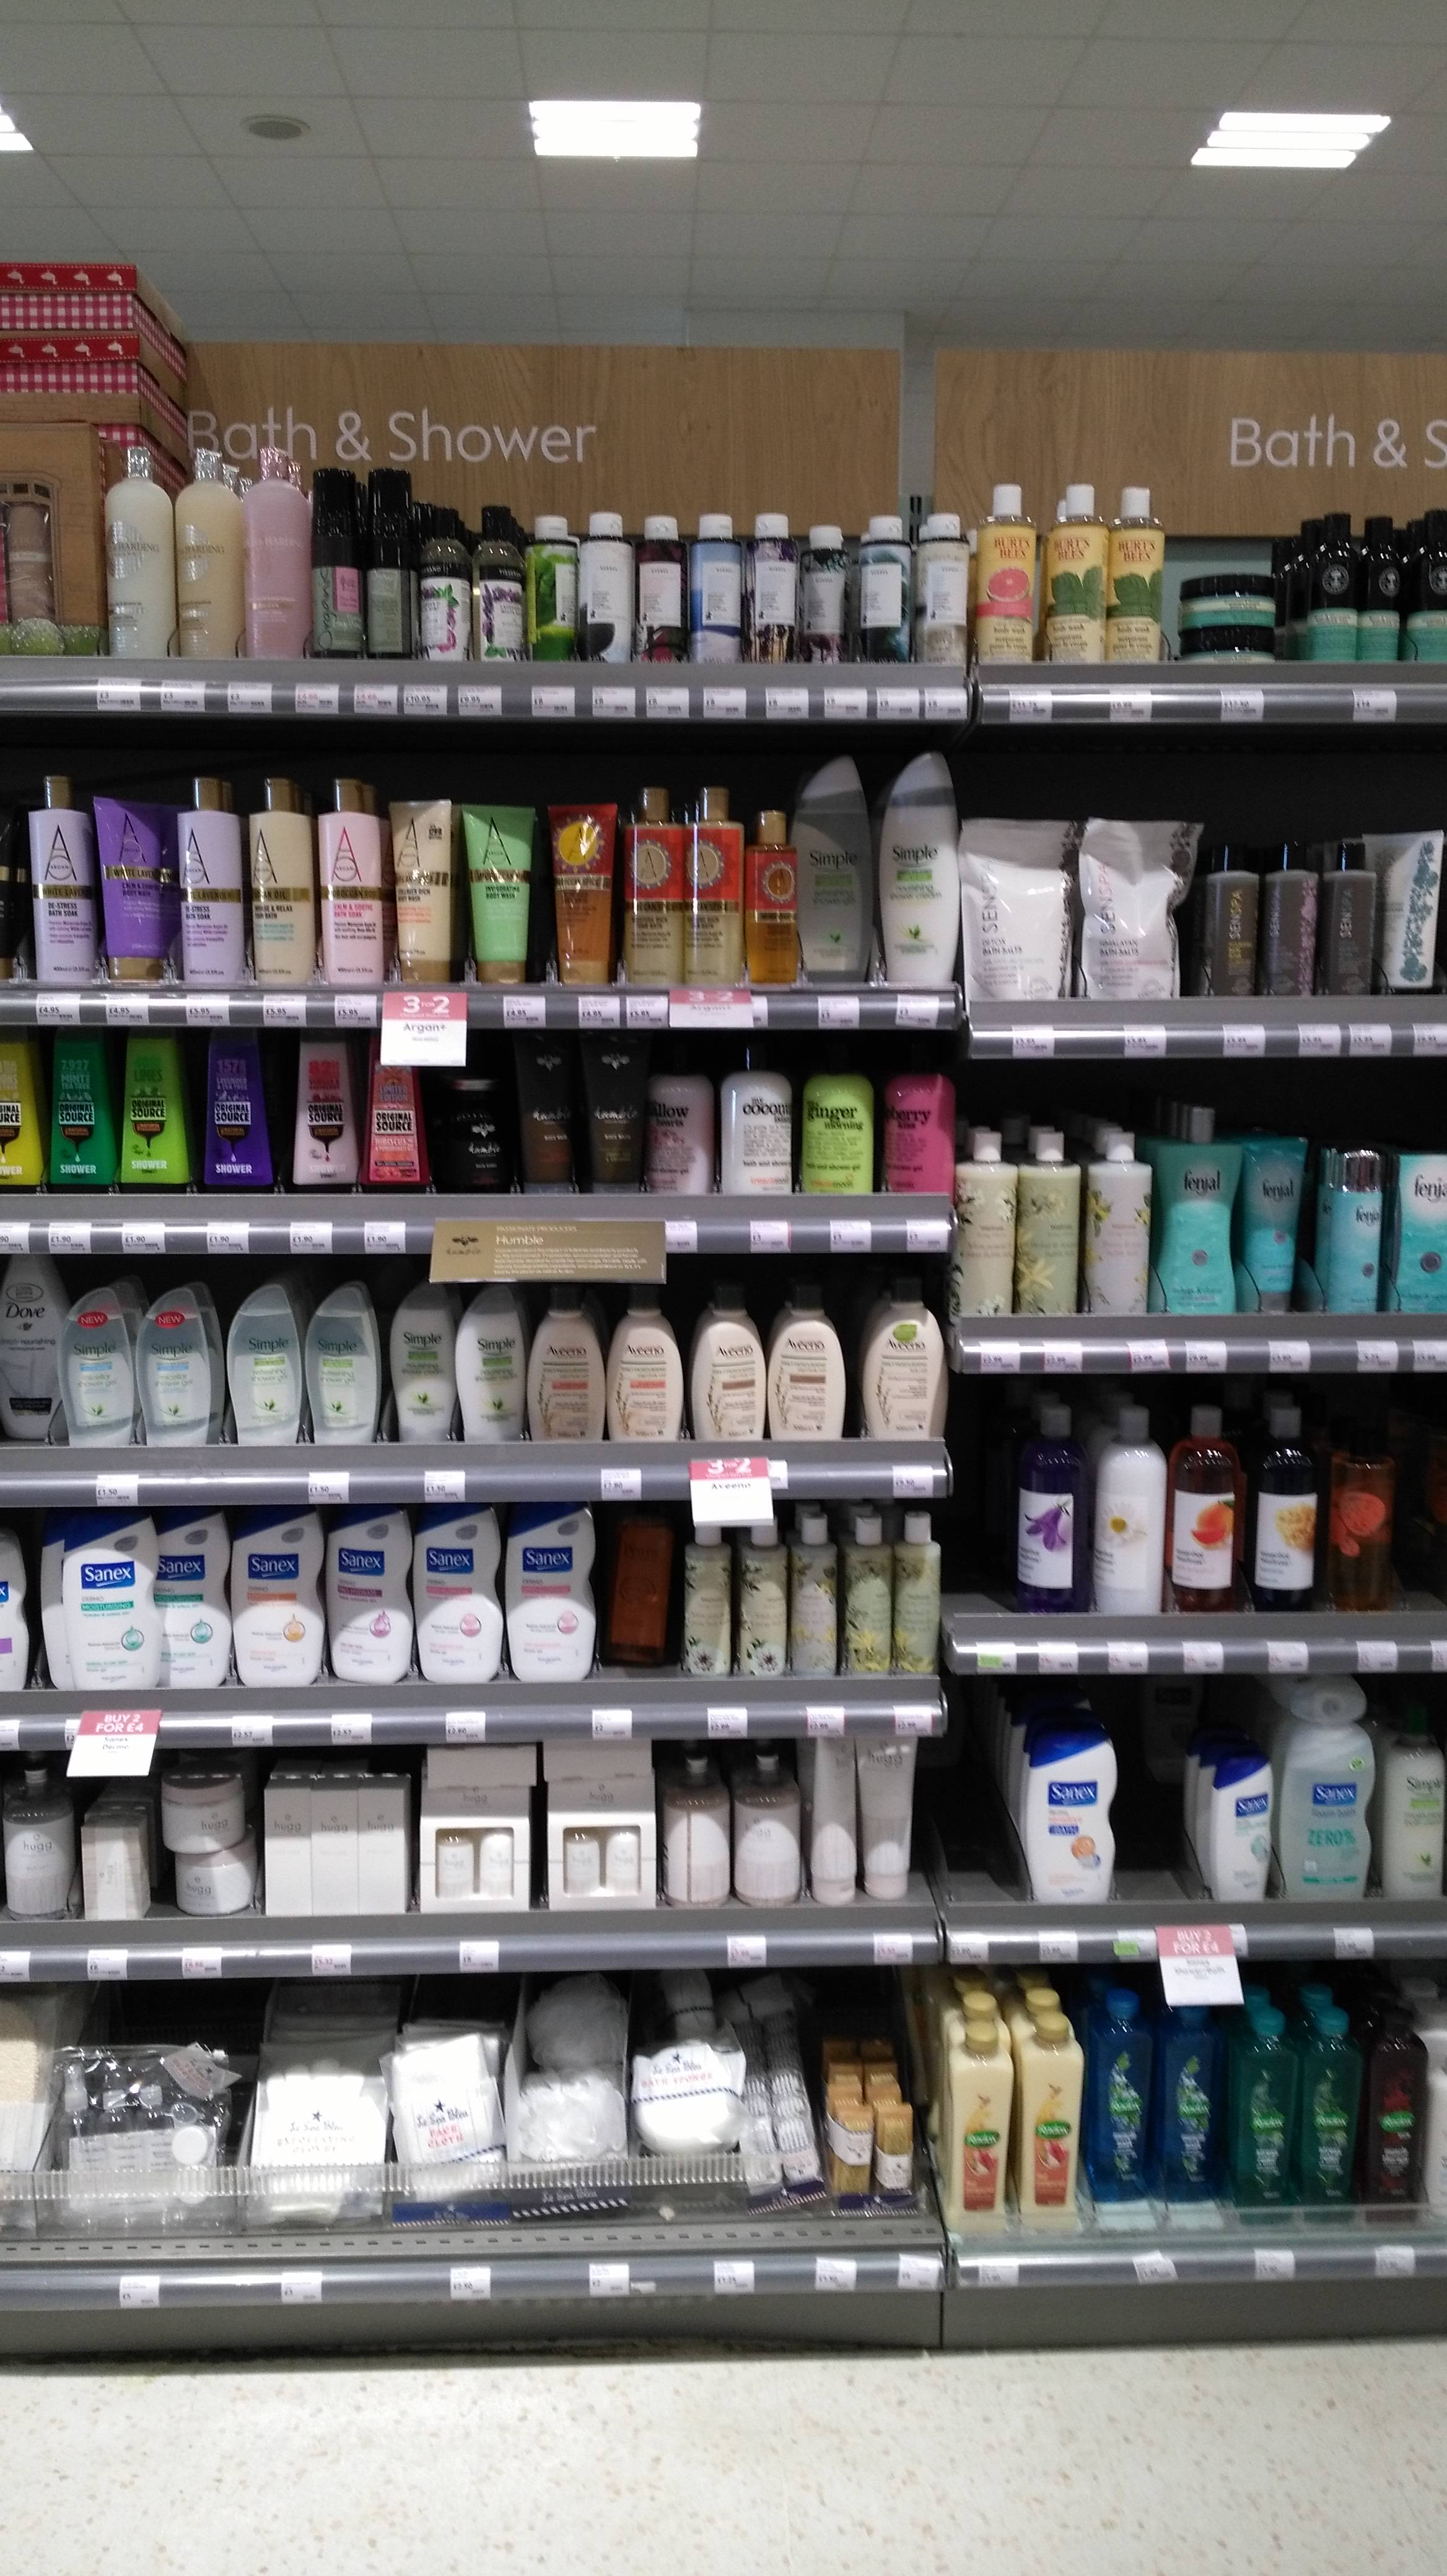Out-of-stock: (1118, 1713, 1198, 1898)
